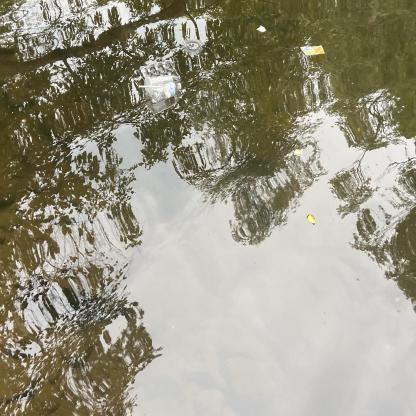trash: (148, 79, 184, 107), (138, 59, 178, 80), (137, 74, 174, 94), (297, 42, 329, 60), (254, 22, 270, 36)
